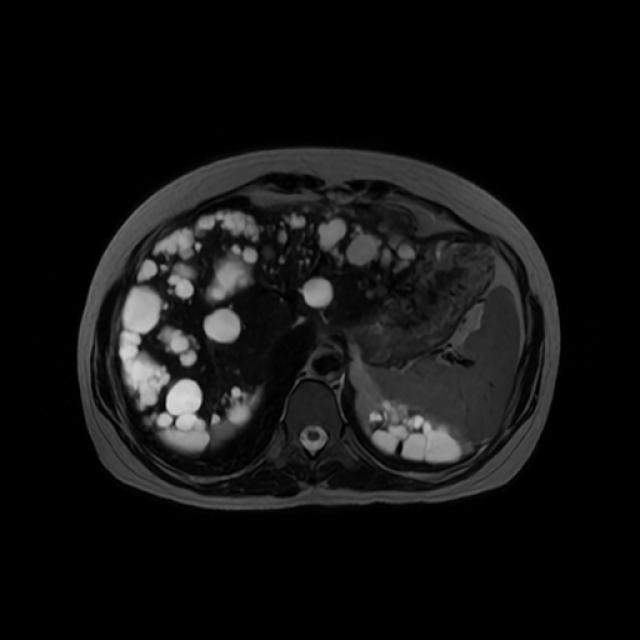sag: (207, 383, 261, 446)
sol: (367, 399, 475, 462)
